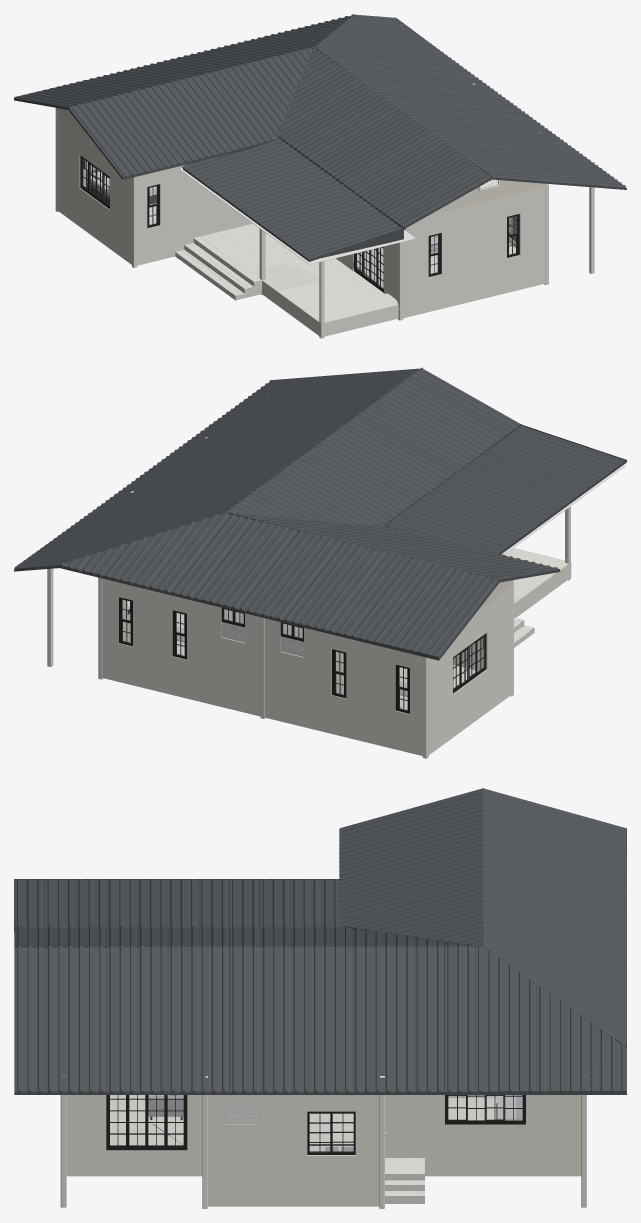
The model's file is house-stable-v412.glb.
3 views of the same model, one above another, from view 1: azimuth 30°, elevation 25°; view 2: azimuth 150°, elevation 25°; view 3: azimuth 270°, elevation 25° (orthographic). The views are drawn at different scales.
Parts seen in each view (by area): view 1: d, c, b, slab_ml0yinv0445zy6c4, merged-roof.001, ผนังนอก_ใต้_นั่งเล่น, a, ผนังนอก_ตะวันตก_นอน1, ผนังนอก_ใต้_นอน1, merged-stair.001, e, ผนังใน_ลานหน้าบ้าน|นอน1 (+6 smaller); view 2: a, d, ผนังนอก_เหนือ_นอน1+น้ำ1+น้ำ2+นอน2, c, merged-roof.001, slab_ml0yinv0445zy6c4, b, ผนังนอก_ตะวันตก_นอน1, เสา_C1, เสาลาน_P3; view 3: d, a, b, merged-roof.001, slab_ml0yinv0445zy6c4, ผนังนอก_ตะวันออก_เก็บของ+นั่งเล่น, ผนังนอก_ตะวันออก_นอน2, c, ผนังนอก_ตะวันออก_นั่งเล่น, หน้าต่าง_นั่งเล่น_ตะวันออก_2, บันไดหลังบ้าน_ขั้น, บันไดหลังบ้าน_ลาน (+13 smaller).
Boxes of the visible parts, left/top/right/bottom form: d: left=315, top=14, right=626, bottom=189; c: left=277, top=47, right=492, bottom=228; b: left=68, top=46, right=314, bottom=179; slab_ml0yinv0445zy6c4: left=57, top=186, right=545, bottom=337; merged-roof.001: left=182, top=138, right=405, bottom=261; ผนังนอก_ใต้_นั่งเล่น: left=403, top=187, right=545, bottom=304; a: left=14, top=14, right=354, bottom=109; ผนังนอก_ตะวันตก_นอน1: left=57, top=114, right=131, bottom=250; ผนังนอก_ใต้_นอน1: left=137, top=164, right=201, bottom=251; merged-stair.001: left=175, top=236, right=261, bottom=300; e: left=55, top=108, right=548, bottom=214; ผนังใน_ลานหน้าบ้าน|นอน1: left=201, top=186, right=252, bottom=235; a: left=59, top=512, right=499, bottom=660; d: left=14, top=367, right=422, bottom=571; ผนังนอก_เหนือ_นอน1+น้ำ1+น้ำ2+นอน2: left=102, top=578, right=422, bottom=740; c: left=225, top=368, right=521, bottom=525; merged-roof.001: left=385, top=425, right=626, bottom=554; slab_ml0yinv0445zy6c4: left=102, top=548, right=571, bottom=755; b: left=227, top=512, right=560, bottom=582; ผนังนอก_ตะวันตก_นอน1: left=429, top=587, right=511, bottom=739; เสา_C1: left=422, top=657, right=428, bottom=758; เสาลาน_P3: left=47, top=568, right=53, bottom=666; d: left=14, top=946, right=626, bottom=1094; a: left=482, top=788, right=626, bottom=1047; b: left=339, top=787, right=483, bottom=946; merged-roof.001: left=14, top=879, right=339, bottom=932; slab_ml0yinv0445zy6c4: left=66, top=1095, right=581, bottom=1206; ผนังนอก_ตะวันออก_เก็บของ+นั่งเล่น: left=208, top=1095, right=379, bottom=1188; ผนังนอก_ตะวันออก_นอน2: left=385, top=1095, right=581, bottom=1157; c: left=14, top=926, right=482, bottom=947; ผนังนอก_ตะวันออก_นั่งเล่น: left=66, top=1095, right=202, bottom=1157; หน้าต่าง_นั่งเล่น_ตะวันออก_2: left=307, top=1111, right=355, bottom=1154; บันไดหลังบ้าน_ขั้น: left=385, top=1180, right=424, bottom=1203; บันไดหลังบ้าน_ลาน: left=385, top=1158, right=424, bottom=1180.
Size of what is drawn, in the model's own units: 14.41 by 5.03 by 15.17.
Materials: 79 (47 with a texture image).
